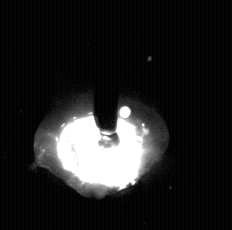arame: (94, 0, 120, 147)
poca: (33, 0, 168, 230)
